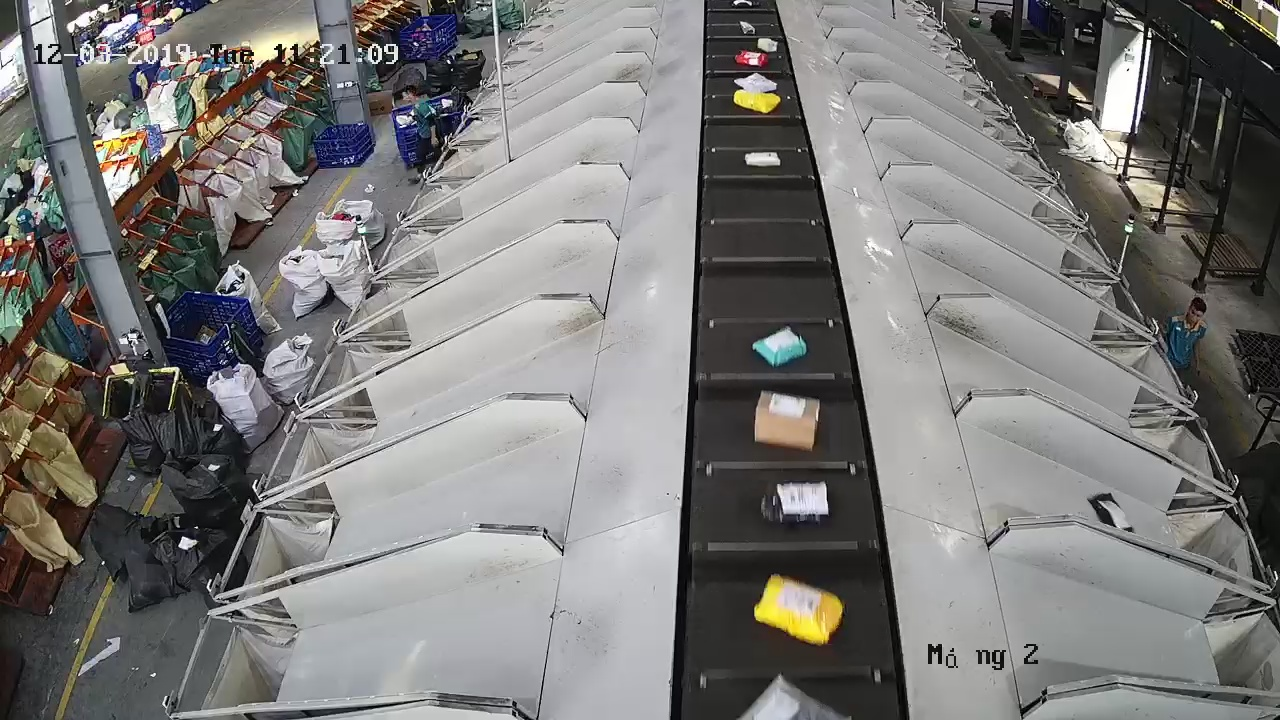parcel: (754, 573, 846, 648), (752, 388, 822, 454), (759, 478, 830, 527), (750, 324, 809, 368)
